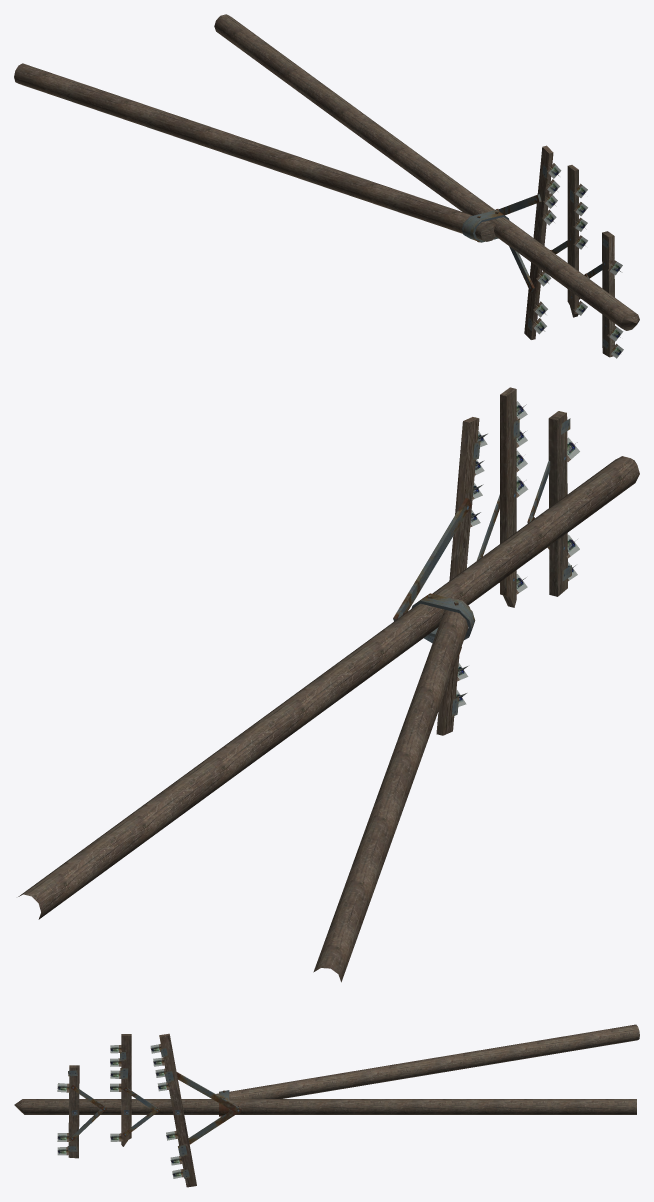
The model's file is powerpole_d02.glb.
3 views of the same model, one above another, from view 1: azimuth 30°, elevation 25°; view 2: azimuth 150°, elevation 25°; view 3: azimuth 270°, elevation 25° (orthographic). The views are drawn at different scales.
Size of the model in its own units: 131 by 110 by 410.
1 material, 1 textured.
